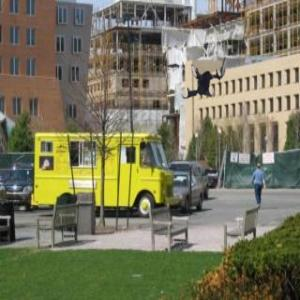drone: (178, 56, 232, 110)
